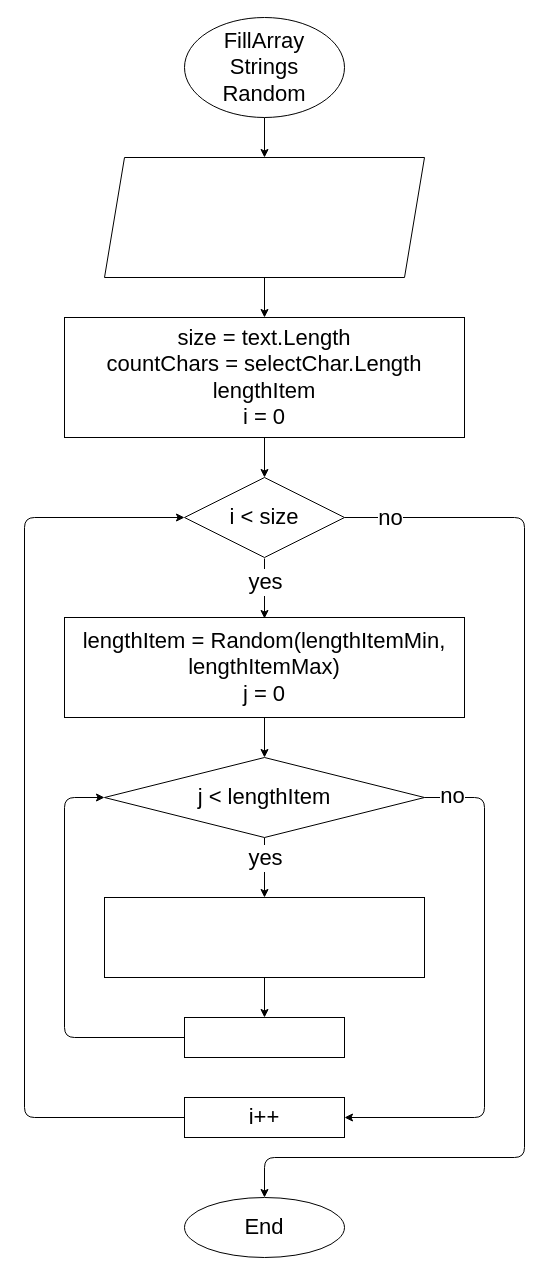
The diagram is 550 pixels wide and 1275 high, and some of its shapes have lost their labels. Here are the shapes that lost their labels. From the top down, the box of each, then its label:
(104, 156, 424, 278): text[ ] string selectChar lengthItemMin lengthItemMax
(104, 896, 424, 978): text[i] += selectChar[Random (0, countChars)]
(184, 1016, 344, 1058): j++
